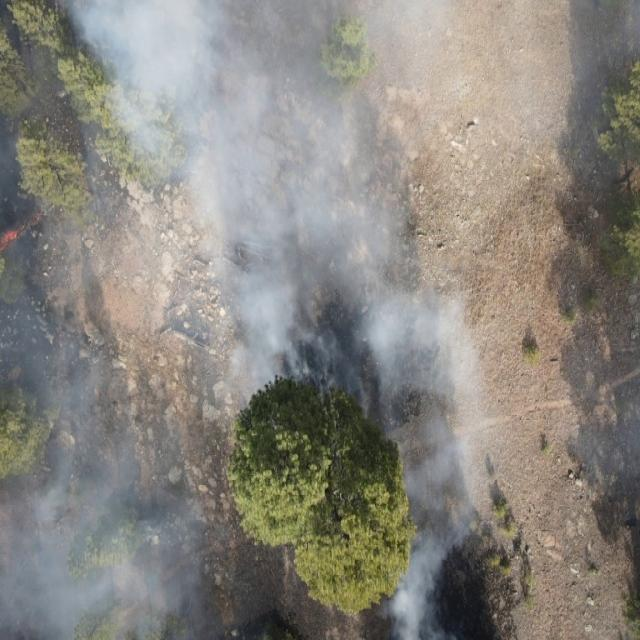fire: (0, 208, 47, 252)
smoke: (0, 0, 493, 640), (493, 0, 640, 166), (568, 332, 640, 510)
